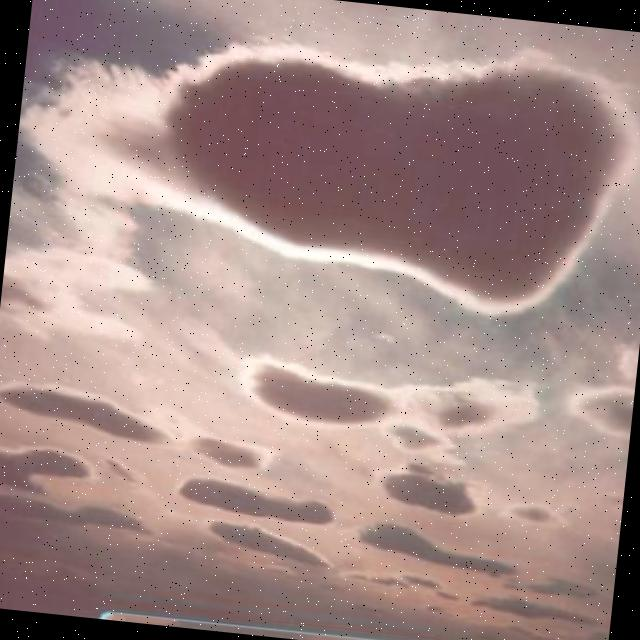Cs: (2, 1, 640, 354)
